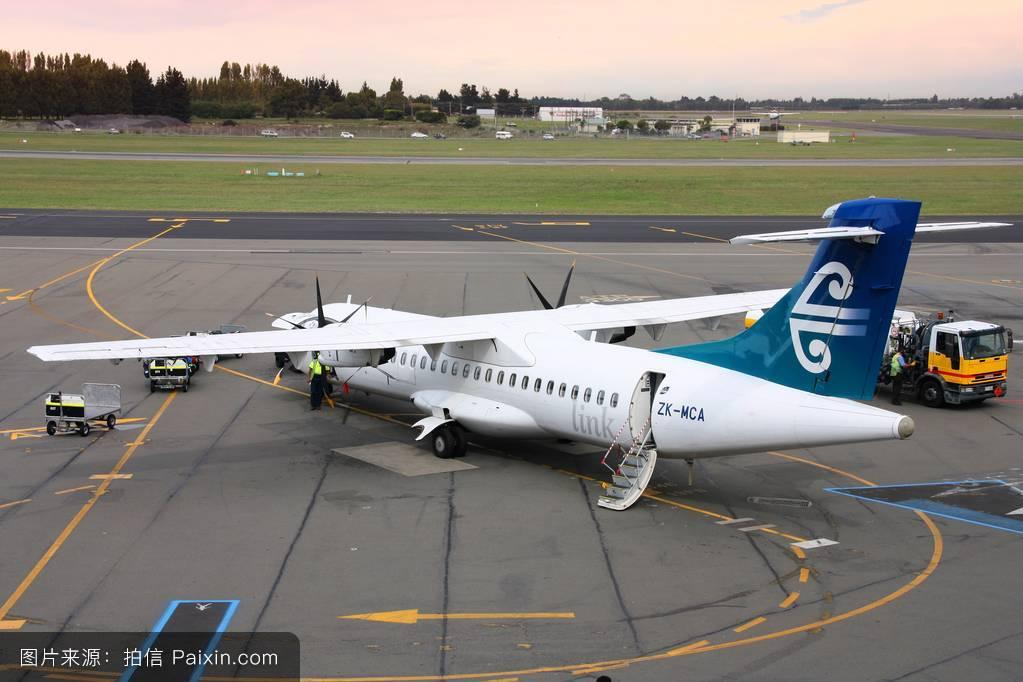airplane: (20, 186, 1016, 484)
